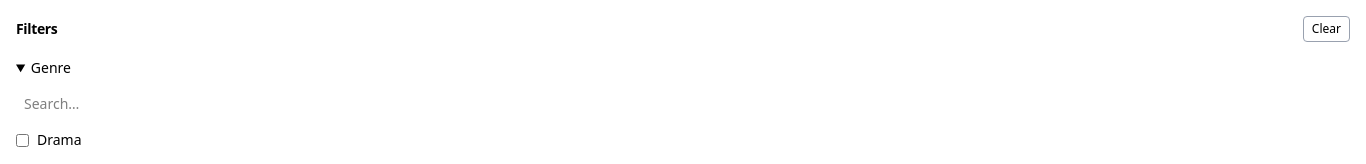
Test: Filters › shows "No genres" when no match found
Type "xyz" into the search field with placeholder "Search…". click: (683, 104)
box: x1=16 y1=86 x2=1350 y2=122
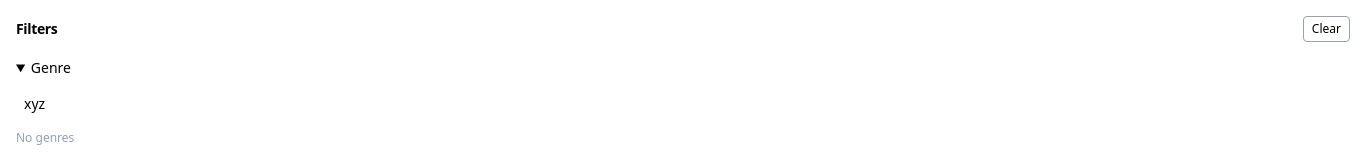
Now the list item "No genres" is shown, box x1=16 y1=130 x2=74 y2=146
